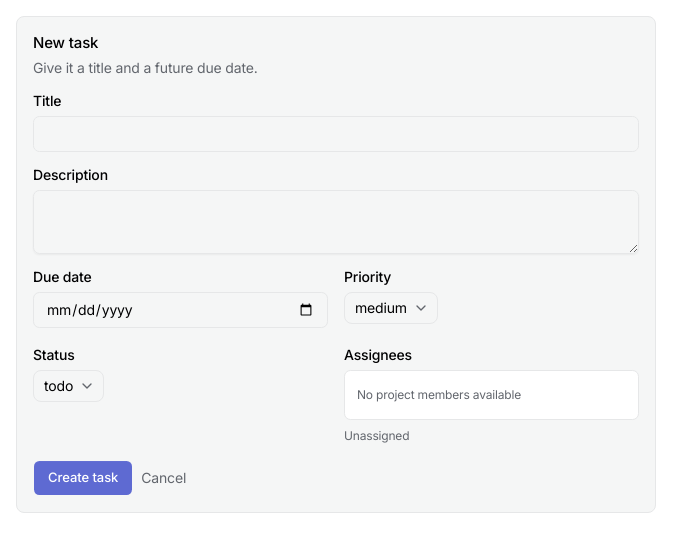
Test: NewTaskPage › shows inline error when title empty
The width and height of the screenshot is (673, 558).
expect the button "Create task" is shown: met, box [33, 460, 133, 496]
Type "2030-06-01" into the date field labelled "Due date". click: (180, 310)
box: [33, 292, 328, 328]
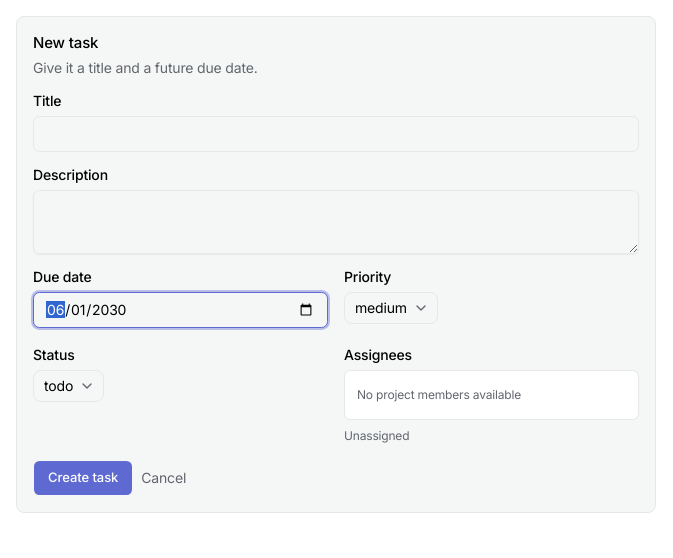
Click the button "Create task". click: (83, 478)
box: [33, 460, 133, 496]
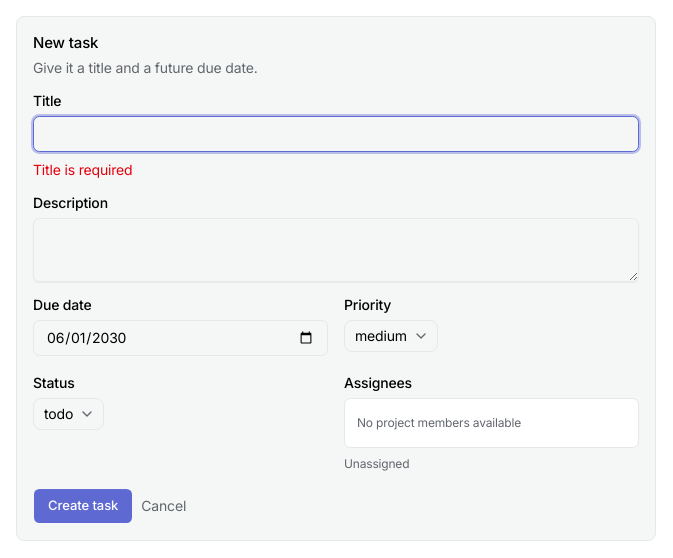
expect the text "Title is required" is shown: met, box [33, 161, 132, 178]
